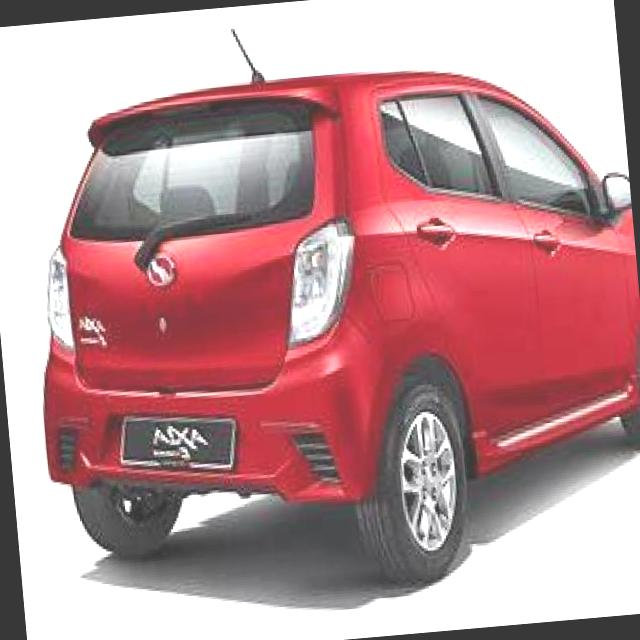PeroduaAxia: (8, 0, 640, 617)
